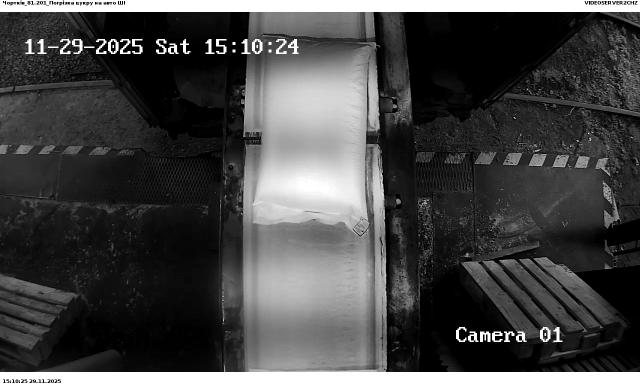bag: (252, 35, 376, 235)
